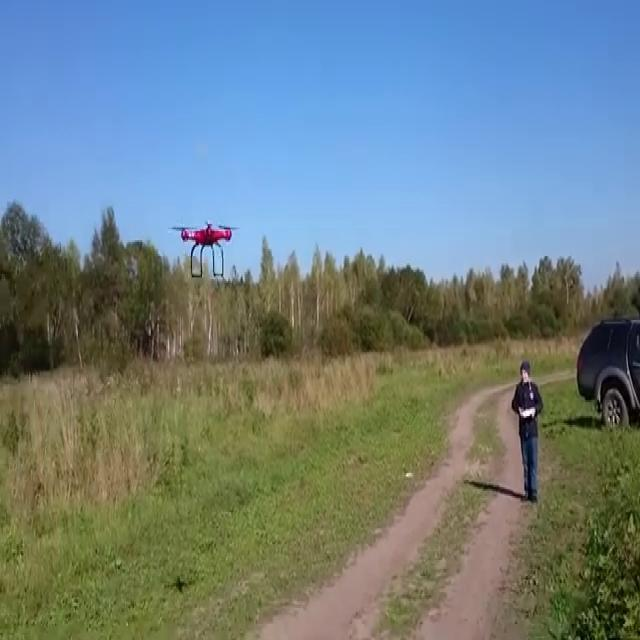Drons: (166, 218, 242, 280)
